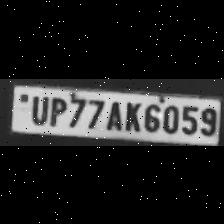0: (161, 101, 179, 133)
5: (178, 101, 198, 135)
6: (140, 100, 160, 132)
7: (83, 95, 103, 129), (65, 94, 84, 128)
9: (197, 102, 217, 136)
A: (103, 97, 123, 130)
K: (122, 98, 140, 132)
P: (47, 93, 67, 126)
U: (28, 92, 48, 125)
